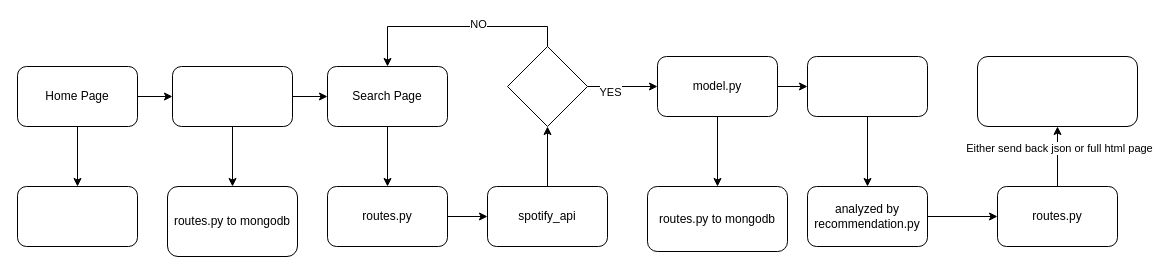
The diagram is 1170 pixels wide and 274 high, and some of its shapes have lost their labels. The shapes that lost their labels are listed below. From the top down, each one's box as (x1, y1, x2, y2) in pixels, then its label:
(172, 66, 292, 126): Authentication
(506, 46, 588, 126): saved?
(806, 56, 928, 116): mongodb
(976, 56, 1138, 126): recommendation page
(16, 186, 138, 246): templates
